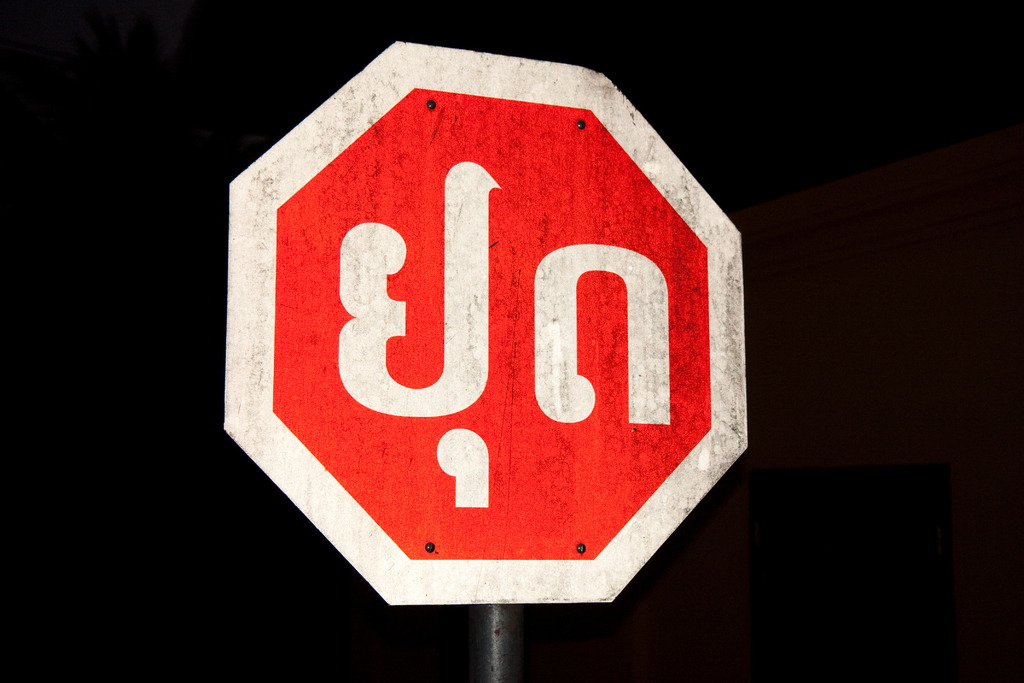stop: (212, 35, 754, 606)
